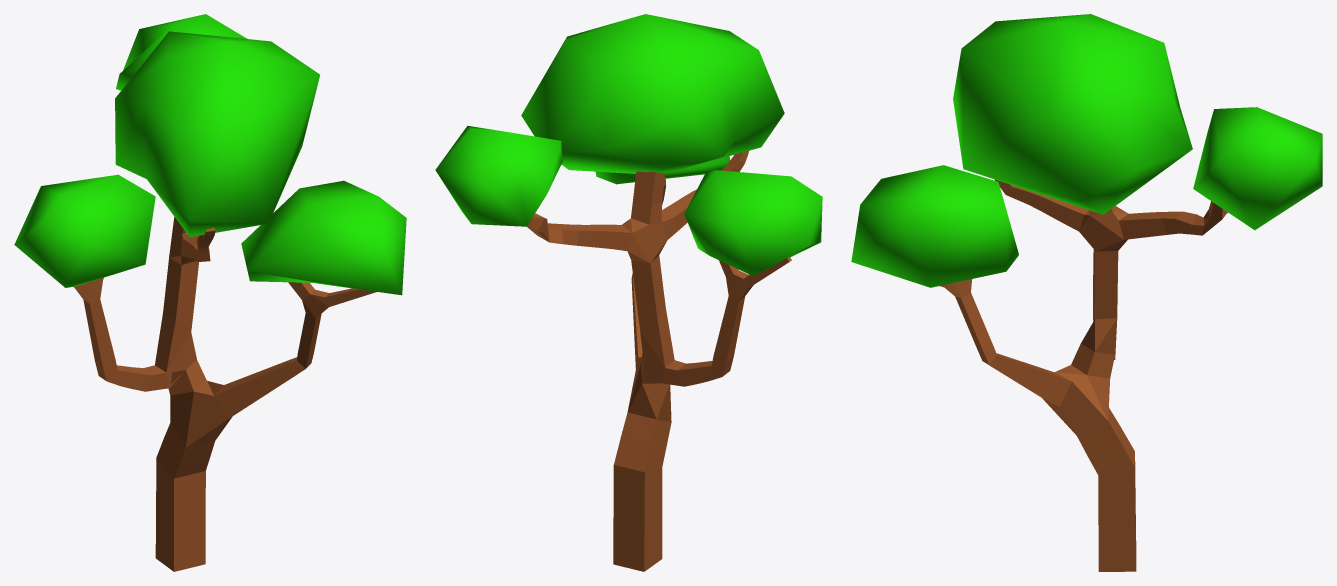
File: ThinTree.fbx
The picture shows the model from 3 angles, left to right: view 1: azimuth 30°, elevation 25°; view 2: azimuth 150°, elevation 25°; view 3: azimuth 270°, elevation 25°; orthographic projection. The views are drawn at different scales.
Visible parts, largest first — view 1: Plane; view 2: Plane; view 3: Plane.
Boxes of the visible parts, x1,y1,x2,y2 form: Plane: (14, 14, 406, 571); Plane: (435, 14, 822, 571); Plane: (851, 14, 1322, 571).
Size of the model in its own units: 1403 by 2436 by 1887.
